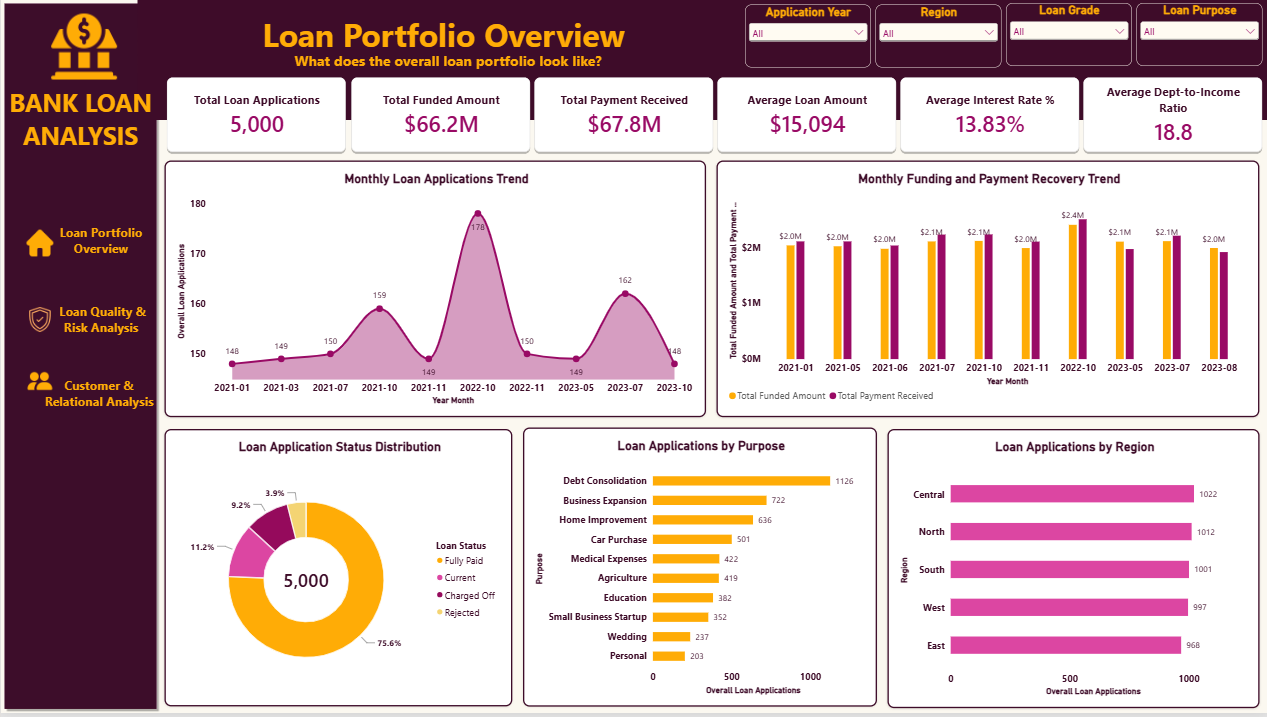

What the dashboard file says about the page in this screenshot:
{"tool":"powerbi","page":{"name":"Loan Portfolio Overview","canvas":[1920,1080],"ordinal":0},"visuals":[{"type":"shape","box":[0,0,240.8,1078.9],"z":0},{"type":"shape","box":[206.7,0,1712.6,181.7],"z":1000},{"type":"textbox","box":[227.1,0,899.4,172.6],"z":2000},{"type":"cardVisual","fields":{"Data":["Dax Measures.Total Applications Display"]},"box":[247,113,278,120],"z":3000},{"type":"cardVisual","fields":{"Data":["Dax Measures.Total Funded Amount"]},"box":[528,113,278,120.4],"z":4000},{"type":"cardVisual","fields":{"Data":["Dax Measures.Total Payment Received"]},"box":[804,113,278,120],"z":5000},{"type":"cardVisual","title":"Average Loan Amount","fields":{"Data":["Dax Measures.Average Loan Amount Display"]},"box":[1082,113,278,120],"z":6000},{"type":"cardVisual","fields":{"Data":["Dax Measures.Average Interest Rate %"]},"box":[1359,114.3,278,120],"z":7000},{"type":"cardVisual","fields":{"Data":["Dax Measures.Average DTI"]},"box":[1635.1,113,278,120],"z":8000},{"type":"lineChart","title":"Monthly Loan Applications Trend","fields":{"Category":["Date_Table.Year_Month"],"Y":["Dax Measures.Total Loan Applications"]},"box":[247.6,243,819.9,388.4],"z":9000},{"type":"clusteredColumnChart","title":"Monthly Funding and Payment Recovery Trend","fields":{"Category":["Date_Table.Year_Month"],"Y":["Dax Measures.Total Funded Amount","Dax Measures.Total Payment Received"]},"box":[1083.4,243,822.2,388.4],"z":10000},{"type":"donutChart","title":"Loan Application Status Distribution","fields":{"Category":["Bank_Loan_Dataset.Loan_Status"],"Y":["Dax Measures.Total Loan Applications"]},"box":[247.6,649.6,526.9,420.2],"z":11000},{"type":"barChart","title":" Loan Applications by Purpose","fields":{"Category":["Bank_Loan_Dataset.Purpose"],"Y":["Dax Measures.Total Loan Applications"]},"box":[790.4,647.3,536,422.5],"z":12000},{"type":"barChart","title":" Loan Applications by Region","fields":{"Category":["Bank_Loan_Dataset.Region"],"Y":["Dax Measures.Total Loan Applications"]},"box":[1342.3,649.6,563.3,422.5],"z":13000},{"type":"slicer","title":"Application Year","fields":{"Values":["Date_Table.Year"]},"box":[1126.6,6.8,190.8,95.4],"z":14000},{"type":"slicer","title":"Region","fields":{"Values":["Bank_Loan_Dataset.Region"]},"box":[1324.2,6.8,190.8,95.4],"z":15000},{"type":"slicer","title":"Loan Grade","fields":{"Values":["Bank_Loan_Dataset.Grade"]},"box":[1521.8,4.5,190.8,95.4],"z":16000},{"type":"slicer","title":"Loan Purpose","fields":{"Values":["Bank_Loan_Dataset.Purpose"]},"box":[1719.4,4.5,190.8,95.4],"z":17000},{"type":"textbox","box":[34.1,338.4,193.1,99.9],"z":18000},{"type":"textbox","box":[34.1,458.8,193.1,111.3],"z":19000},{"type":"image","box":[38.6,343,40.9,50],"z":20000},{"type":"image","box":[38.6,458.8,40.9,50],"z":21000},{"type":"image","box":[38.6,551.9,40.9,50],"z":22000},{"type":"textbox","box":[56.8,570.1,184,138.5],"z":23000},{"type":"image","box":[65.9,20.4,120,100],"z":24000},{"type":"textbox","box":[0,120.4,240.8,154.4],"z":25000}]}

Visuals, with their boxes in screenshot pixels (x1, y1, x2, y2), scaled from the page's 1920x1080 canvas onto the 1267x717 screenshot:
shape: <box>0,0,159,716</box>
shape: <box>136,0,1266,121</box>
textbox: <box>150,0,743,115</box>
cardVisual - Dax Measures.Total Applications Display: <box>163,75,346,155</box>
cardVisual - Dax Measures.Total Funded Amount: <box>348,75,532,155</box>
cardVisual - Dax Measures.Total Payment Received: <box>531,75,714,155</box>
"Average Loan Amount" cardVisual: <box>714,75,897,155</box>
cardVisual - Dax Measures.Average Interest Rate %: <box>897,76,1080,156</box>
cardVisual - Dax Measures.Average DTI: <box>1079,75,1262,155</box>
"Monthly Loan Applications Trend" lineChart: <box>163,161,704,419</box>
"Monthly Funding and Payment Recovery Trend" clusteredColumnChart: <box>715,161,1257,419</box>
"Loan Application Status Distribution" donutChart: <box>163,431,511,710</box>
" Loan Applications by Purpose" barChart: <box>522,430,875,710</box>
" Loan Applications by Region" barChart: <box>886,431,1257,712</box>
"Application Year" slicer: <box>743,5,869,68</box>
"Region" slicer: <box>874,5,1000,68</box>
"Loan Grade" slicer: <box>1004,3,1130,66</box>
"Loan Purpose" slicer: <box>1135,3,1261,66</box>
textbox: <box>23,225,150,291</box>
textbox: <box>23,305,150,378</box>
image: <box>25,228,52,261</box>
image: <box>25,305,52,338</box>
image: <box>25,366,52,400</box>
textbox: <box>37,378,159,470</box>
image: <box>43,14,123,80</box>
textbox: <box>0,80,159,182</box>
